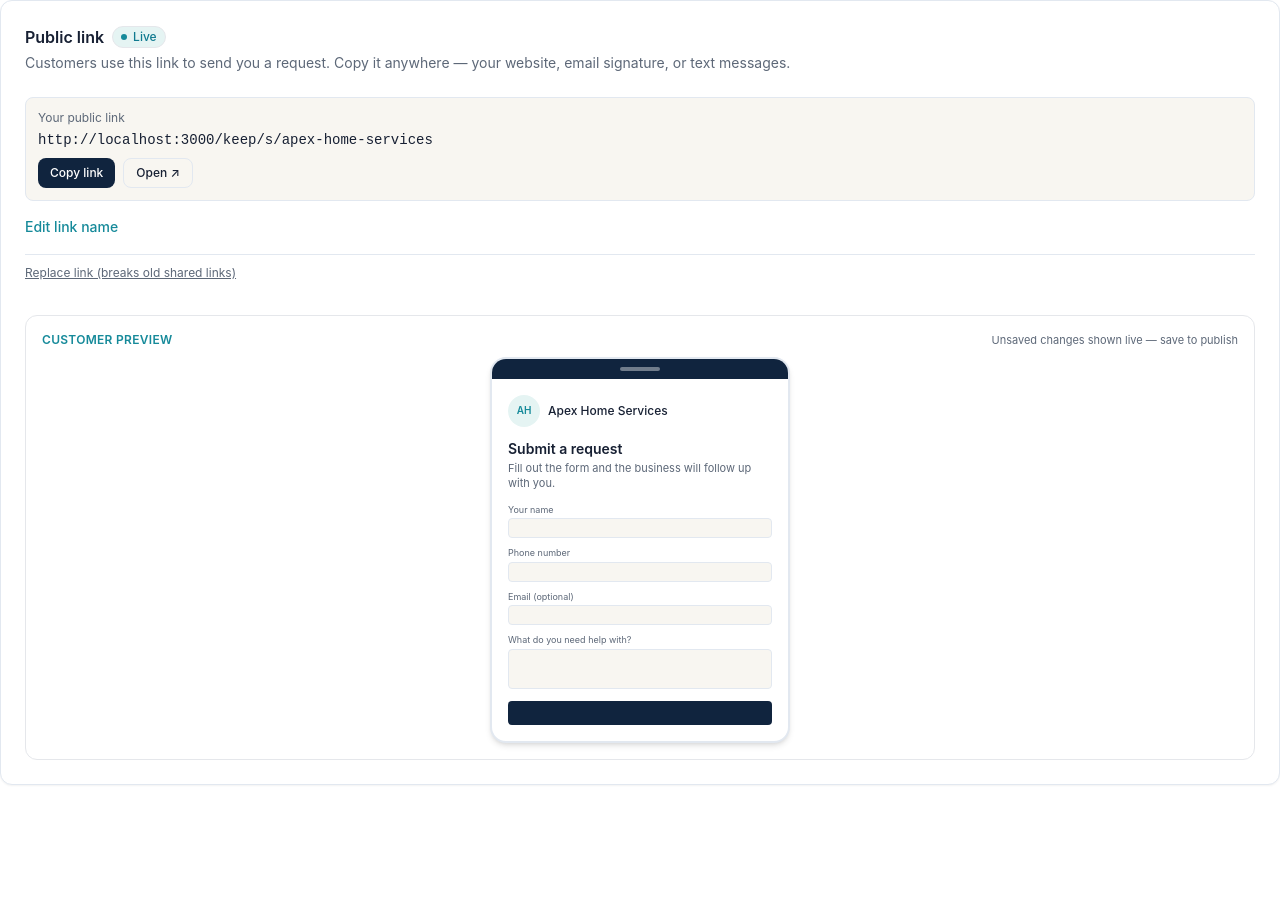
Test: PublicLinkSection replace-link dialog › keeps focus trapped in the panel while every control is disabled in flight
This screenshot has width=1280, height=900.
Click the button "Replace link (breaks old shared links)" at (130, 273), box [25,265,236,281]
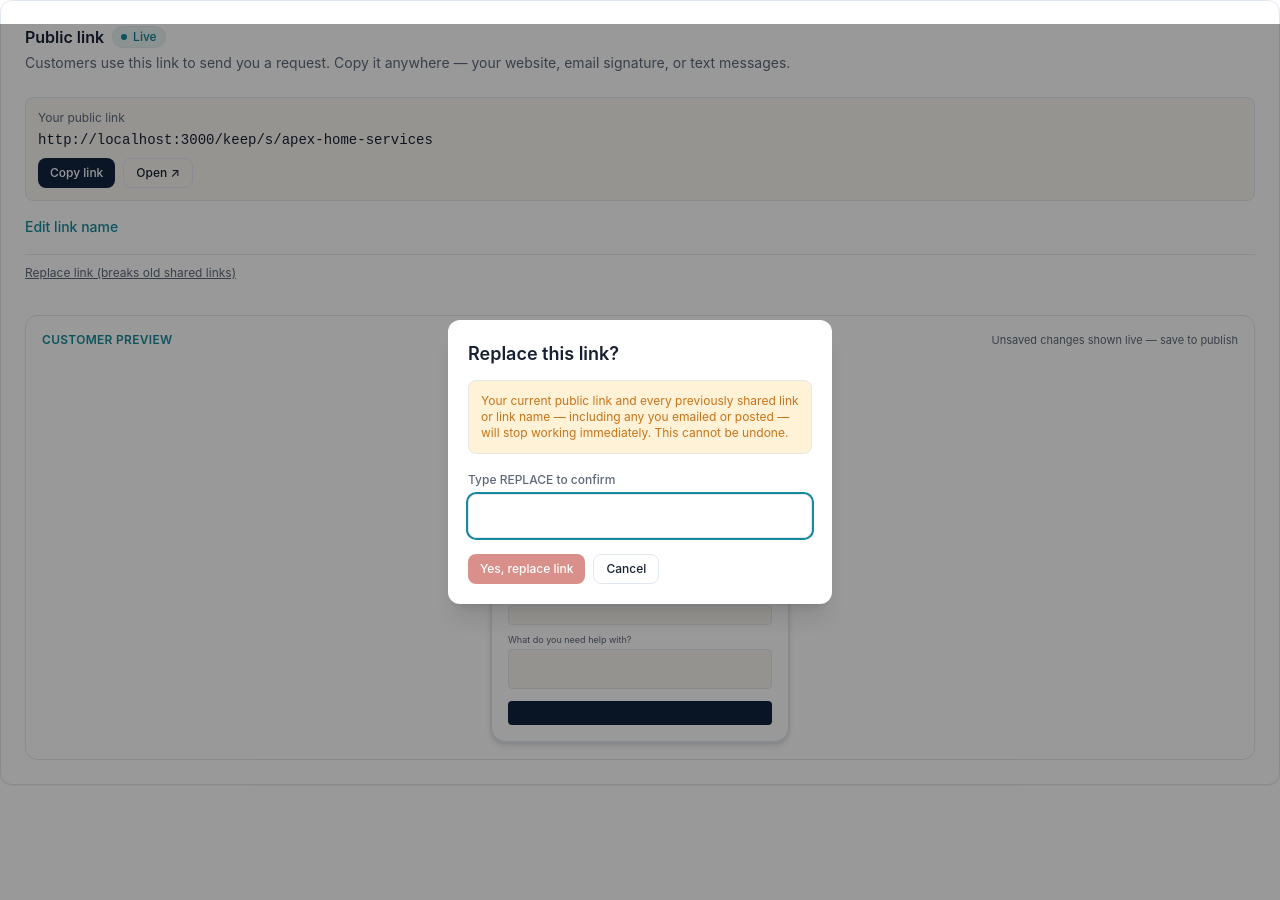
Type "REPLACE" into the field labelled "Type REPLACE to confirm" at (640, 516), box [468,494,812,538]
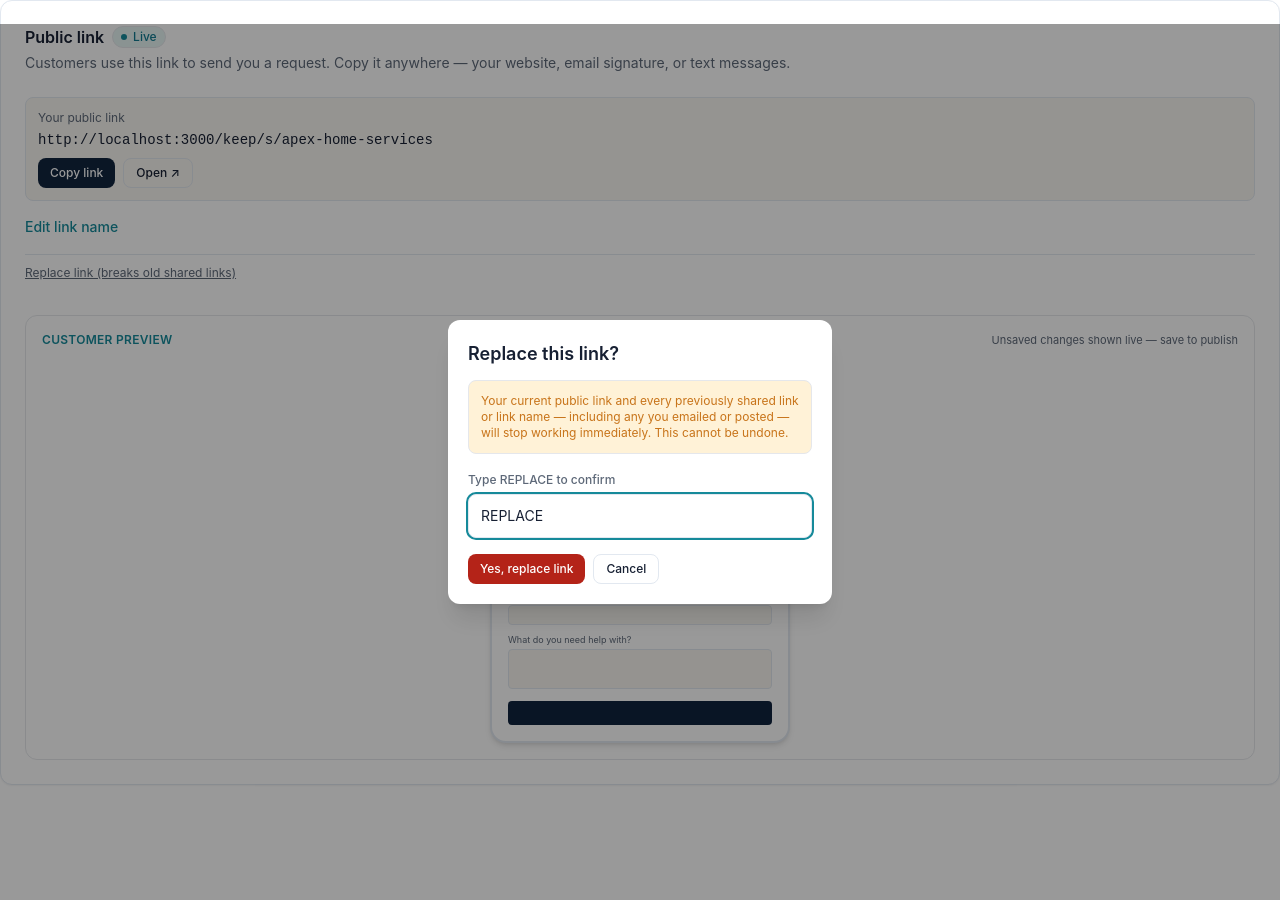
Click the button "Yes, replace link" at (527, 569), box [468,554,585,584]
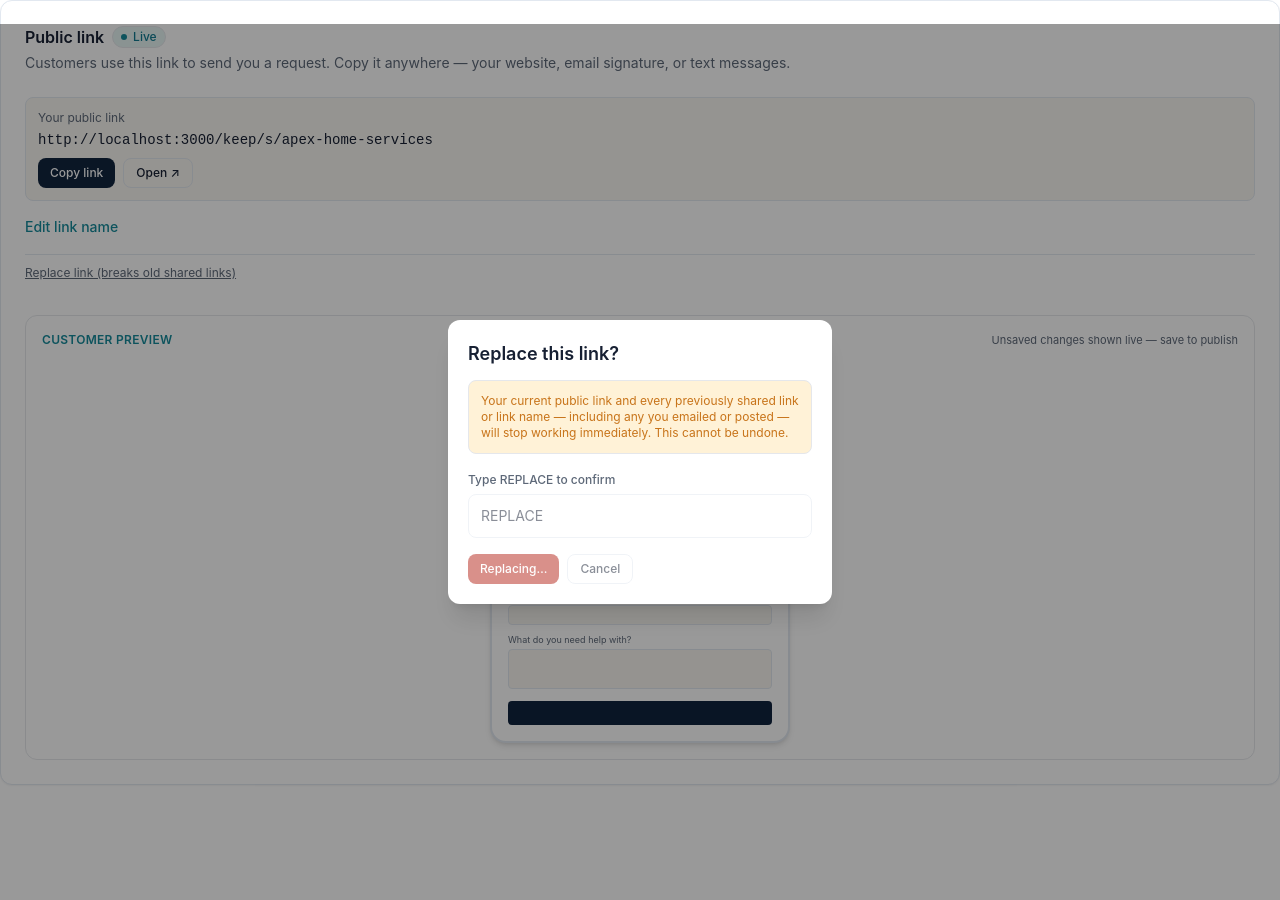
Now the button "Replacing…" is shown, box [468,554,560,584]
Press Tab
Press Shift+Tab
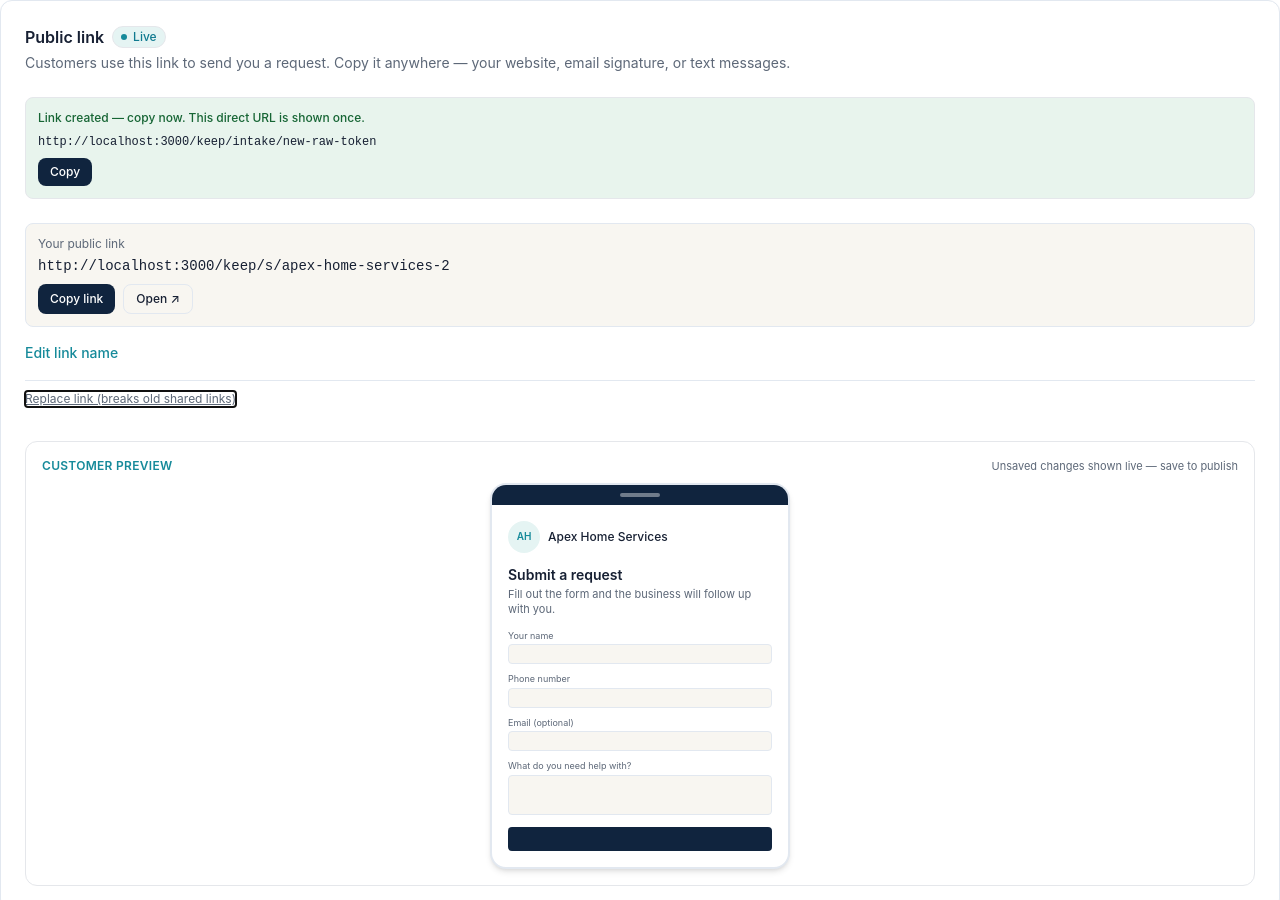
Now the dialog is gone
